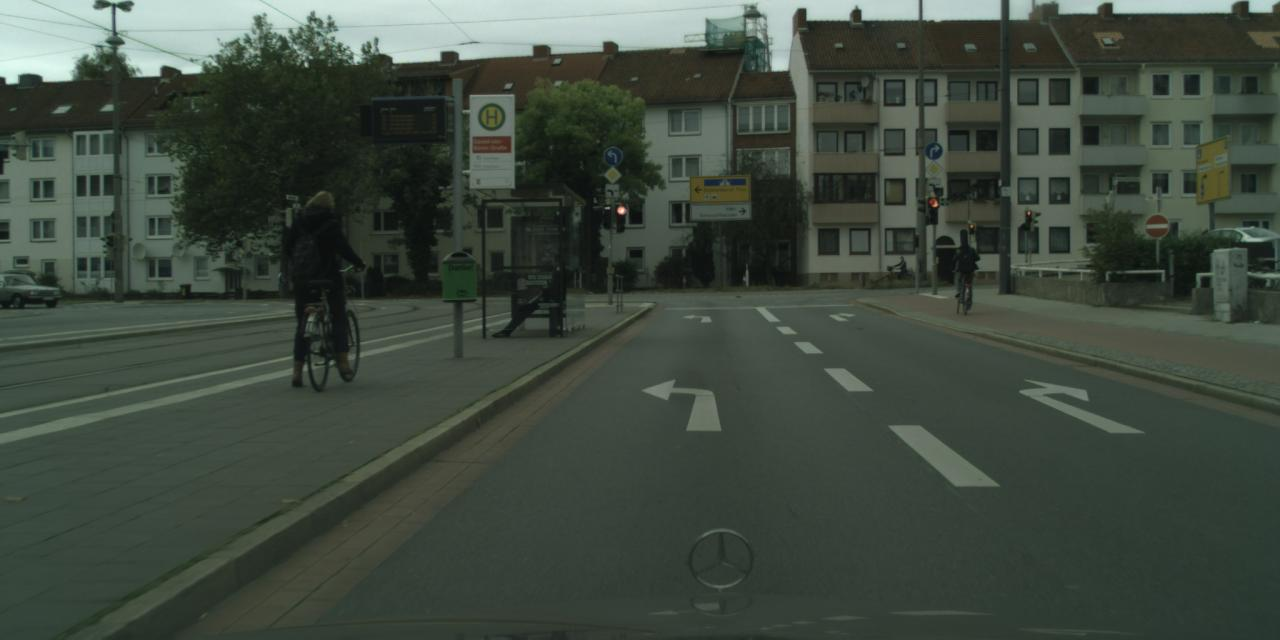ped: (282, 190, 360, 381), (948, 228, 978, 303), (895, 255, 906, 283)
